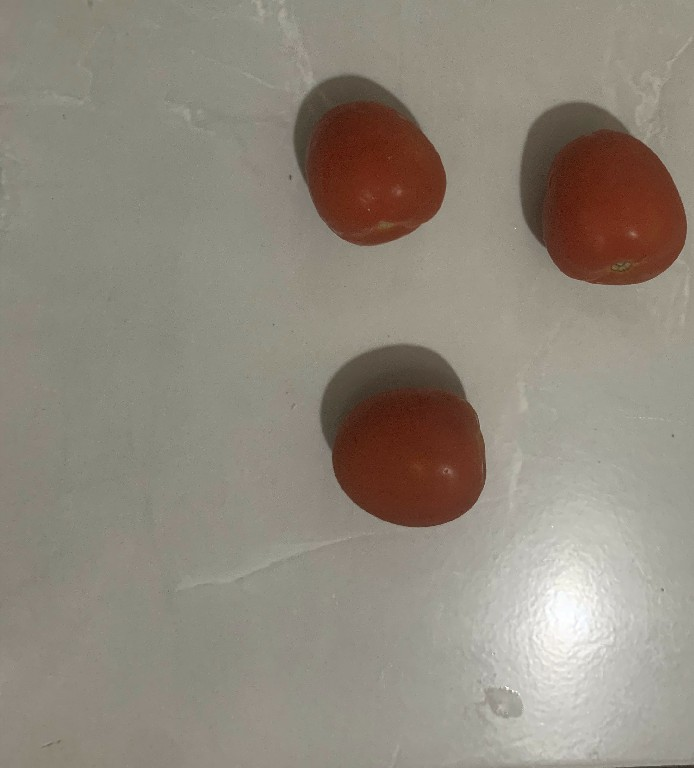OK: (534, 127, 690, 291), (327, 381, 492, 526), (300, 96, 450, 252)
